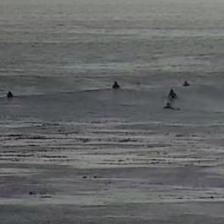surfer: (163, 103, 182, 112), (168, 89, 178, 99), (111, 80, 121, 90), (182, 80, 191, 87), (7, 91, 14, 99)
